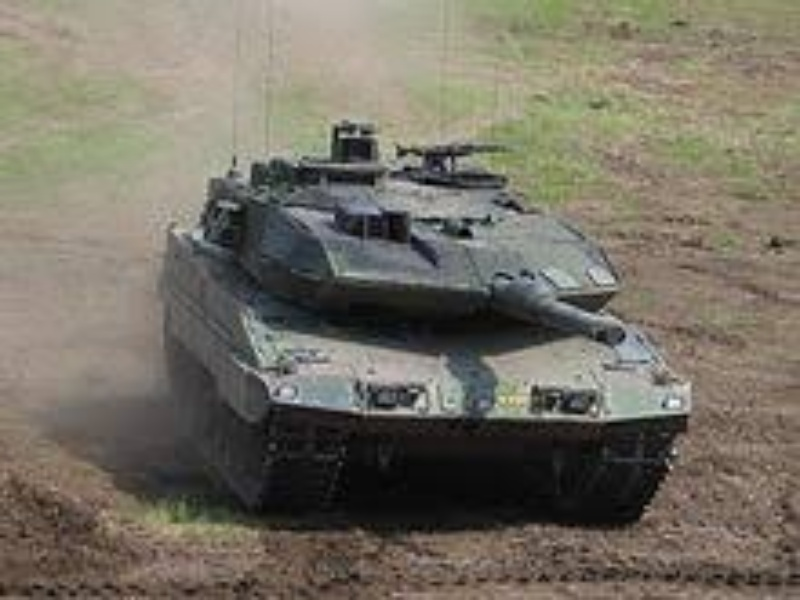tank: (160, 116, 694, 540)
